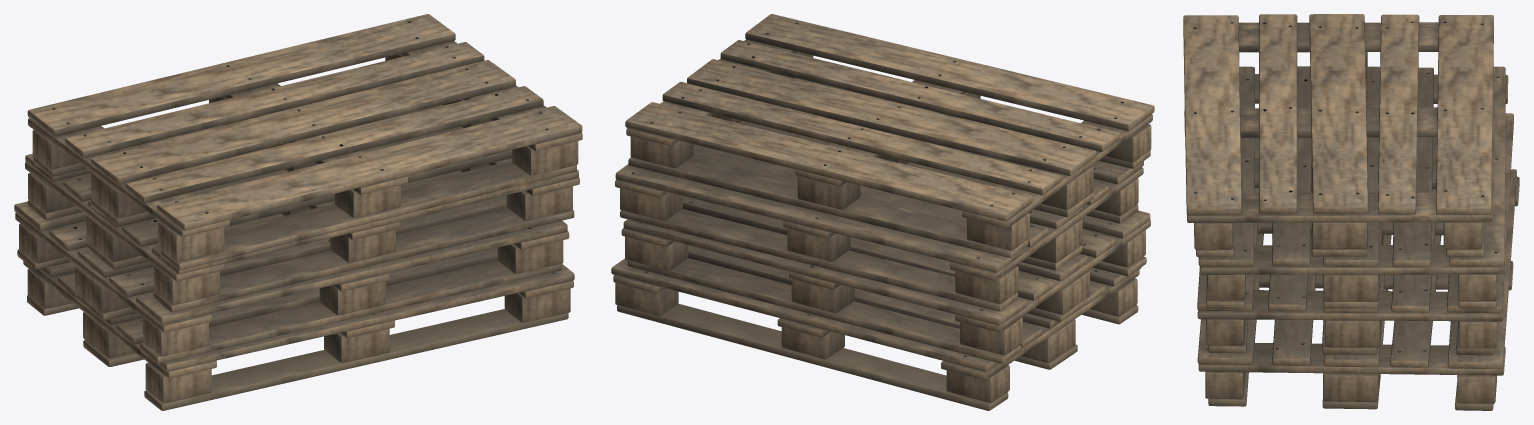
File: SM_PalletStack_Body.fbx
3 views of the same model, side by side, from view 1: azimuth 30°, elevation 25°; view 2: azimuth 150°, elevation 25°; view 3: azimuth 270°, elevation 25° (orthographic). The views are drawn at different scales.
Visible parts, largest first — view 1: PalletStack_Body; view 2: PalletStack_Body; view 3: PalletStack_Body.
Boxes of the visible parts, bbox=[...] form: PalletStack_Body: bbox=[14, 14, 582, 410]; PalletStack_Body: bbox=[611, 14, 1154, 410]; PalletStack_Body: bbox=[1183, 14, 1519, 410].
Bounding box in the file's own units: 0.8814 × 1.25 × 0.579.
1 material, 1 textured.
